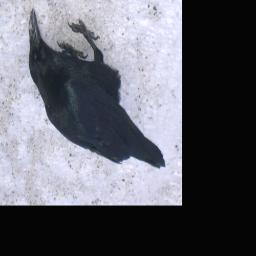Crow: (29, 9, 167, 169)
